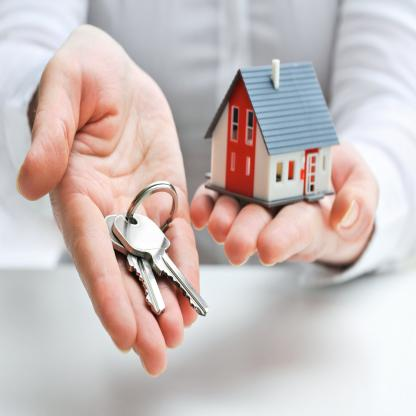keys: (104, 192, 209, 325)
